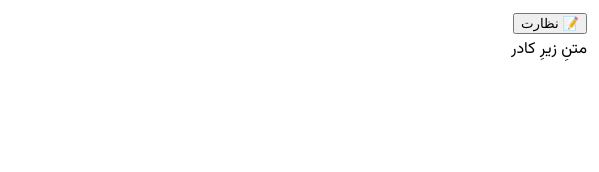
InspectionLayer › a signed-in user can switch it on and sees the hint
The image size is (599, 172).
Click the button with test id "inspection-toggle" at {"x": 550, "y": 24}, box [513,13,587,34]
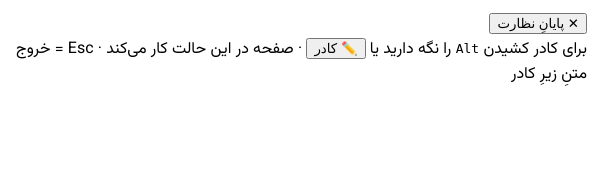
Now the text "را نگه دارید" is shown, box [366,37,456,62]
